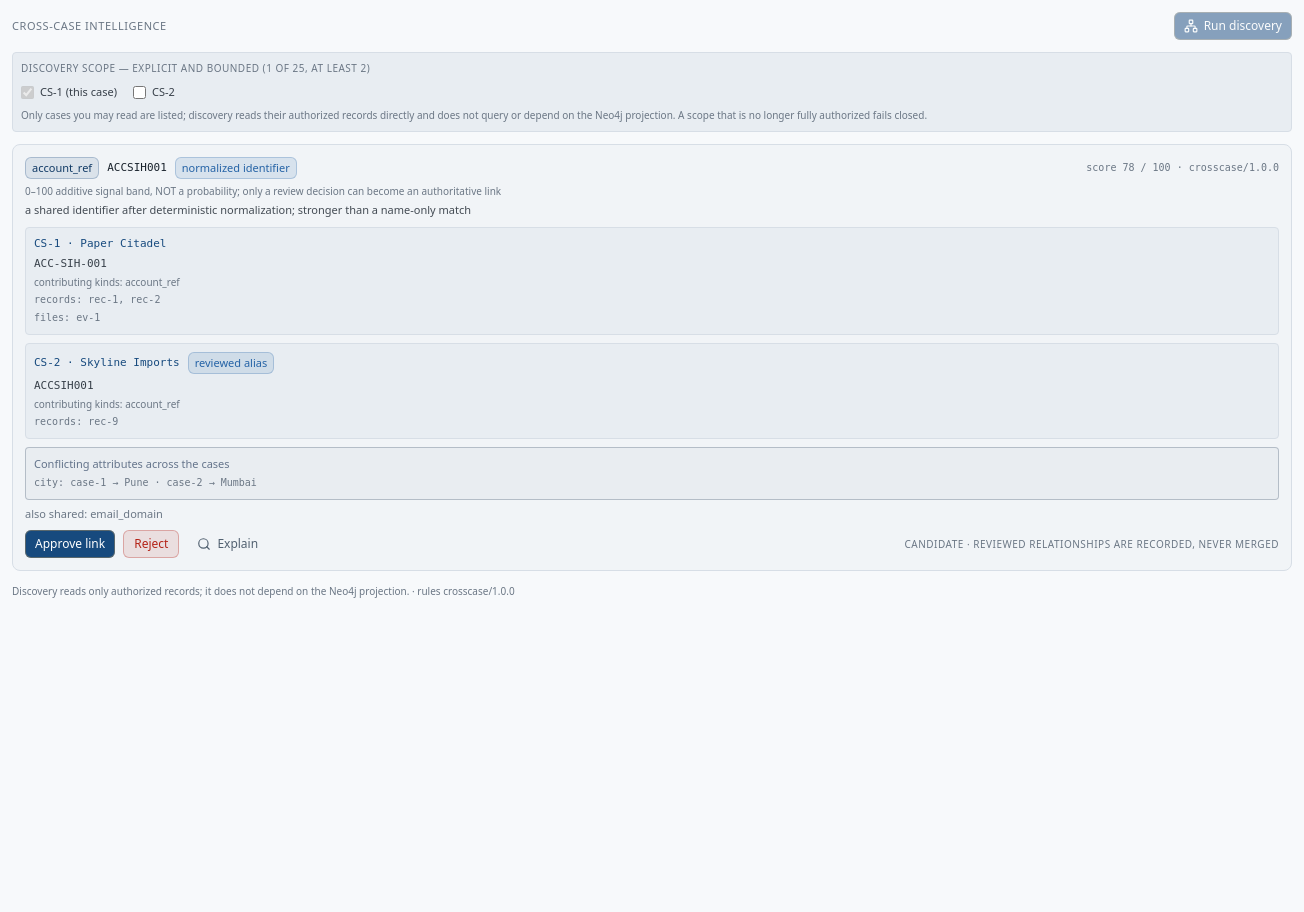
Test case: phase 4 cross-case panel › explain renders the structured narration flagged as unverified AI output
Click the button with aria-label "explain cross-case candidate" at x=228, y=544, box 187,530 -> 268,558
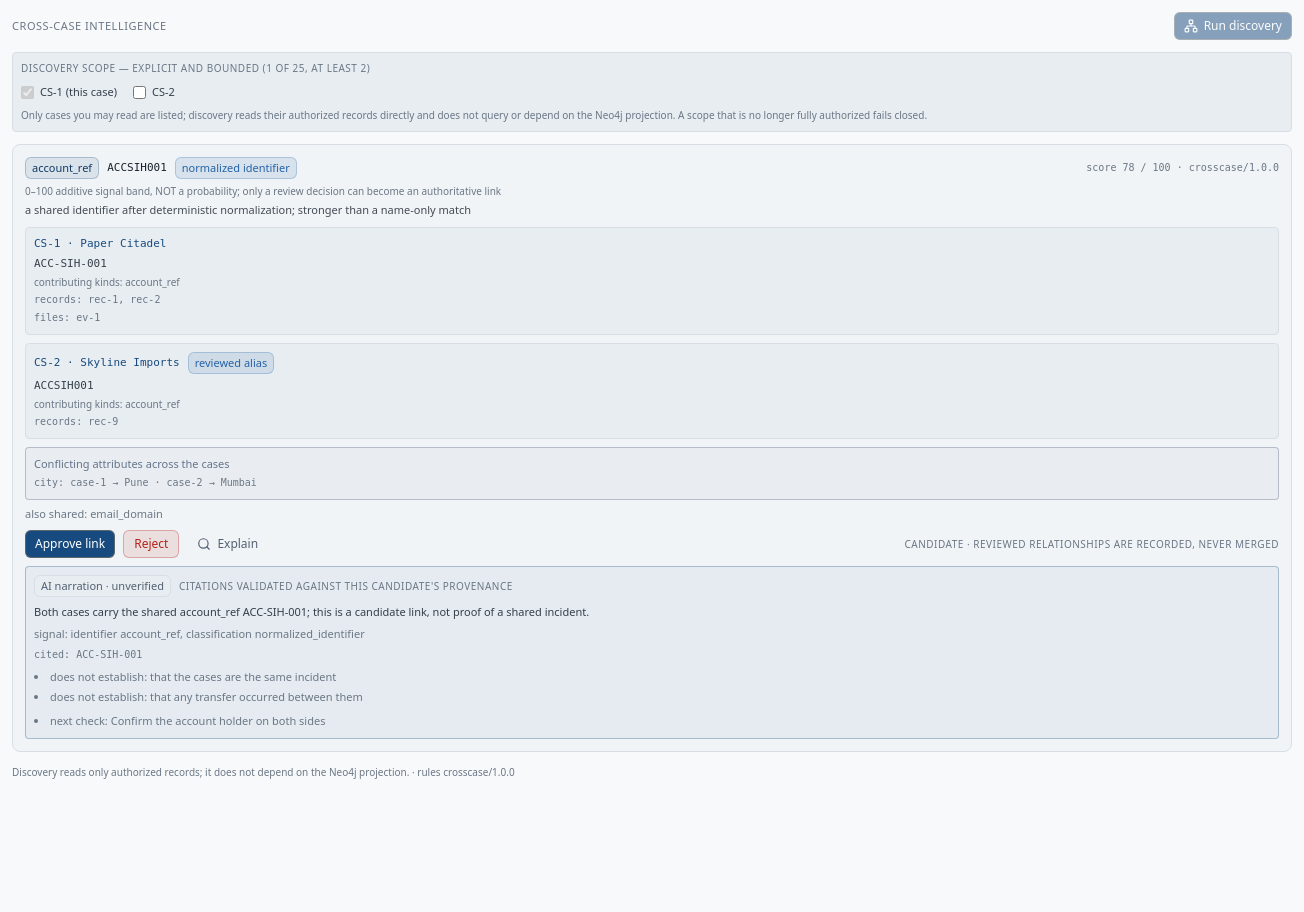
Check: the element with test id "cross-case-explanation" shows "AI narration · unverified", box 41,578 -> 164,593
Check: the element with test id "cross-case-explanation" shows "ACC-SIH-001", box 76,649 -> 142,660
Check: the element with test id "cross-case-explanation" shows "does not establish: that the cases are the same incident", box 25,566 -> 1279,739
